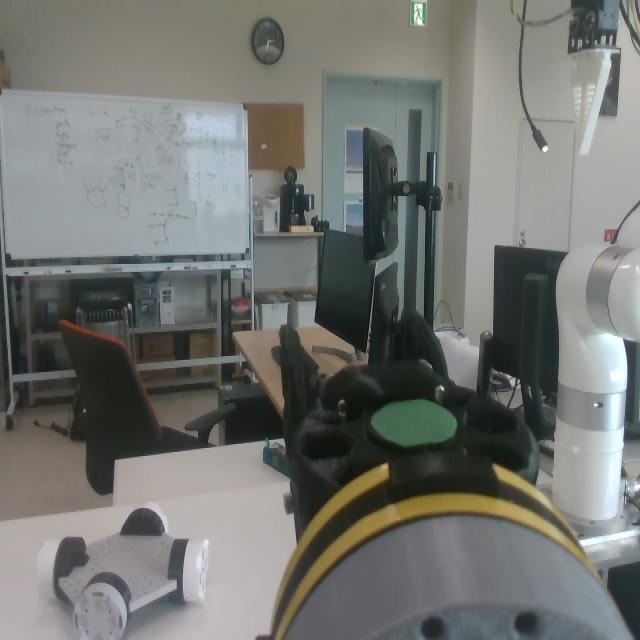body_connector: (285, 517, 634, 640)
connection: (256, 453, 635, 640)
leg: (261, 311, 591, 640)
leg_connector: (269, 453, 597, 640)
marker: (371, 397, 459, 445)
